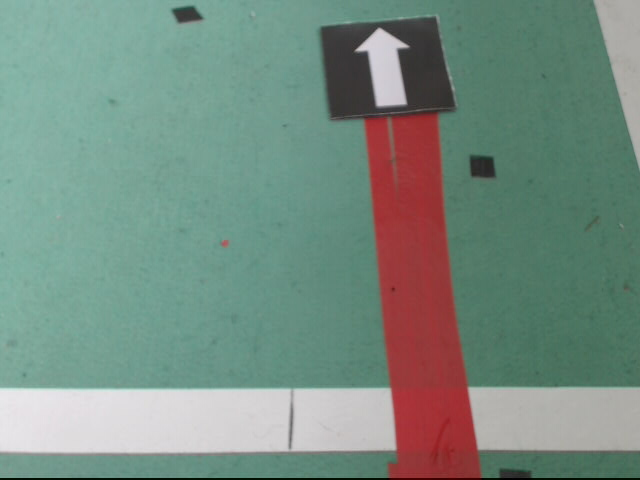straight: (320, 15, 456, 121)
